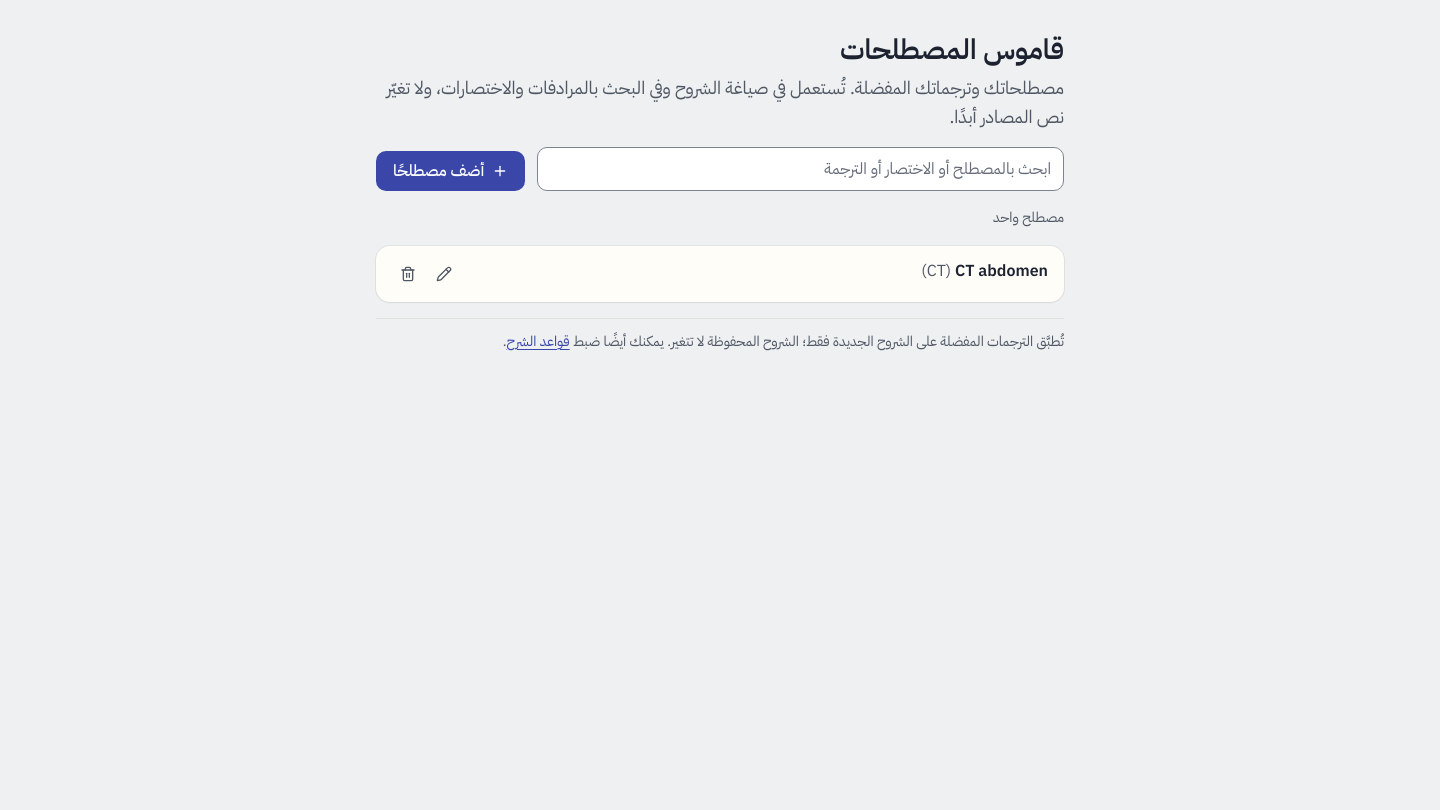
Scenario: TermsScreen › deleting states its impact (source text and saved explanations unchanged) and removes the row
Click the button named "احذف CT abdomen". click: (408, 274)
box: [392,258,424,290]
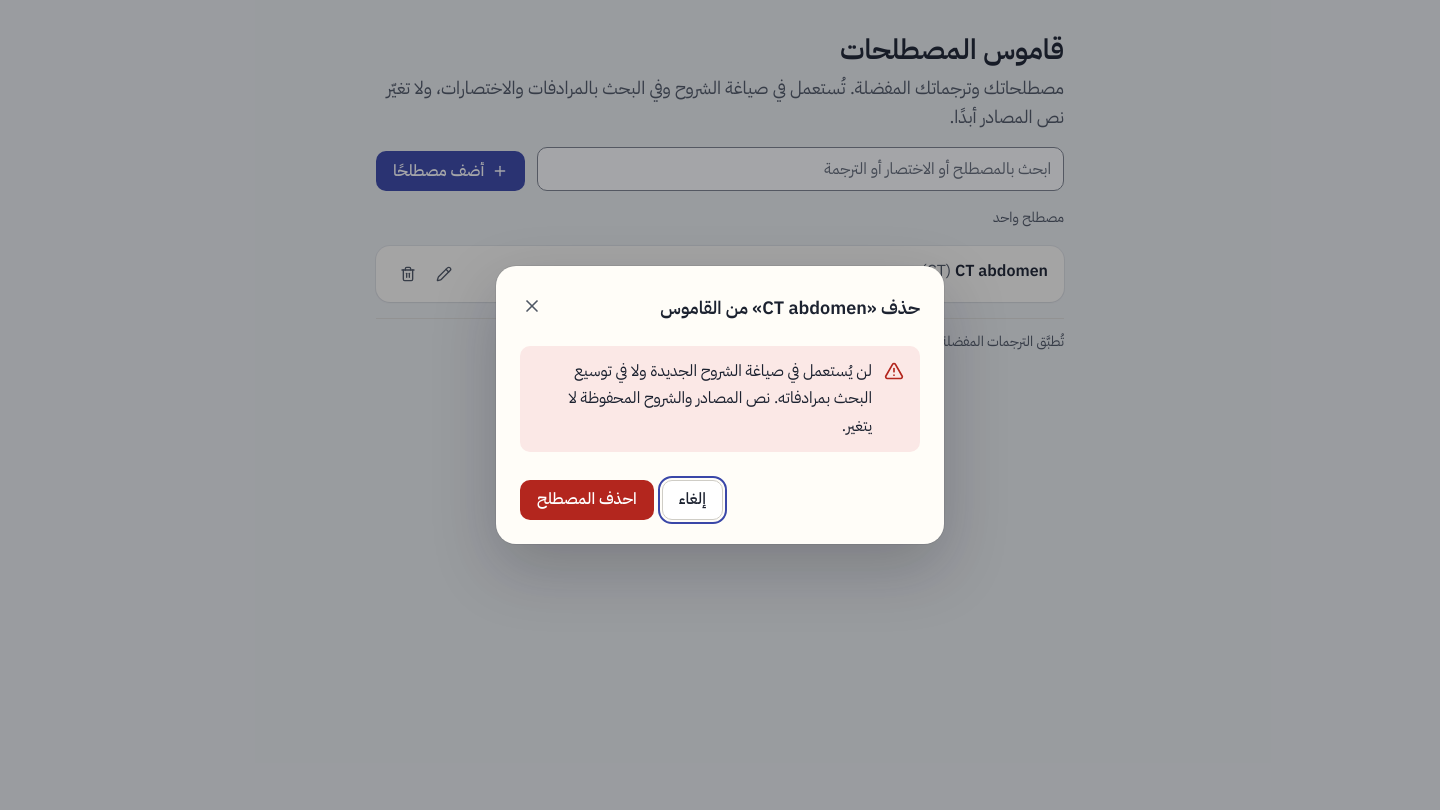
Expected: the text "نص المصادر والشروح المحفوظة لا يتغير" is shown, [568,359,872,438]
Click the button "احذف المصطلح". click: (587, 500)
box: [520,480,654,520]
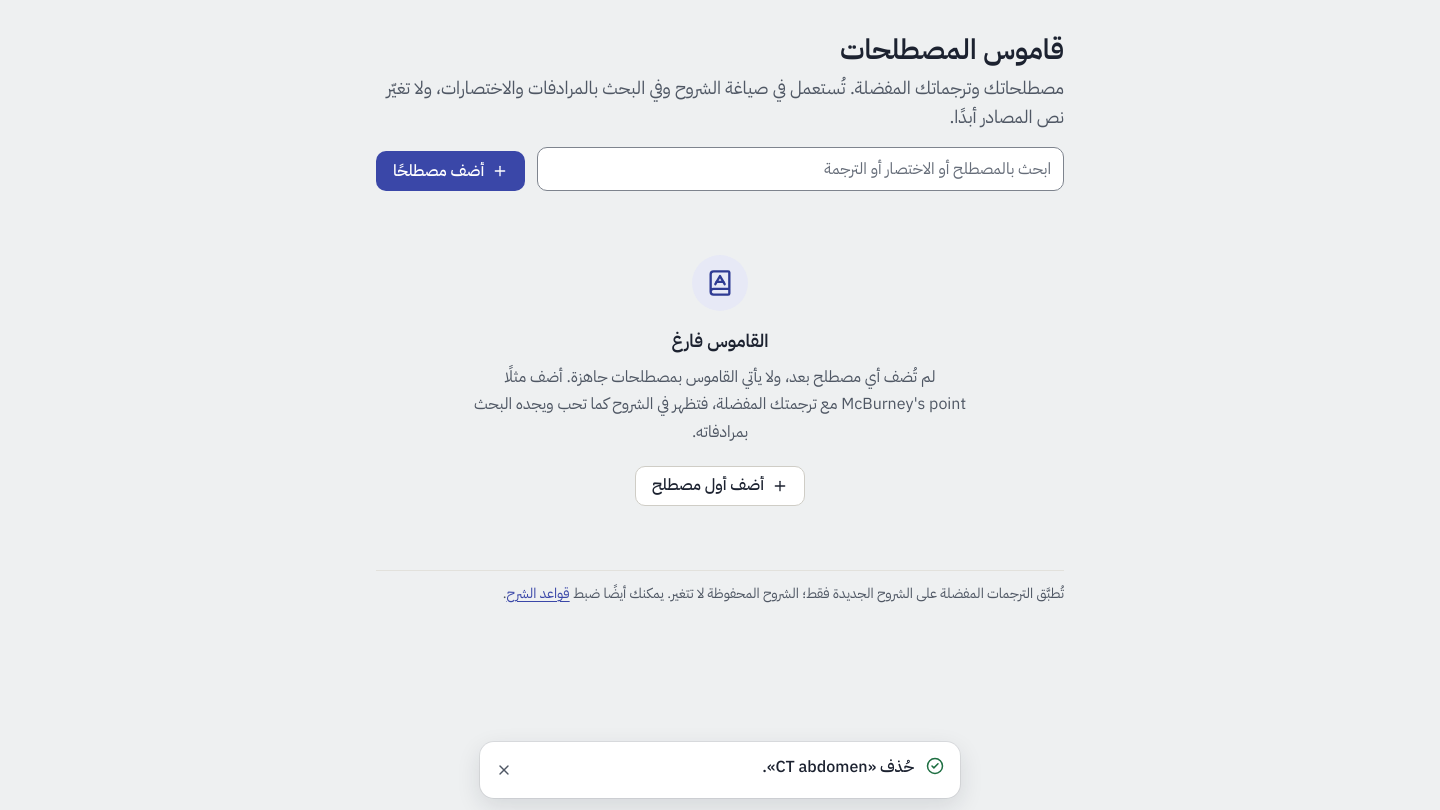
Expected: the heading "القاموس فارغ" is shown, [672,327,768,356]
